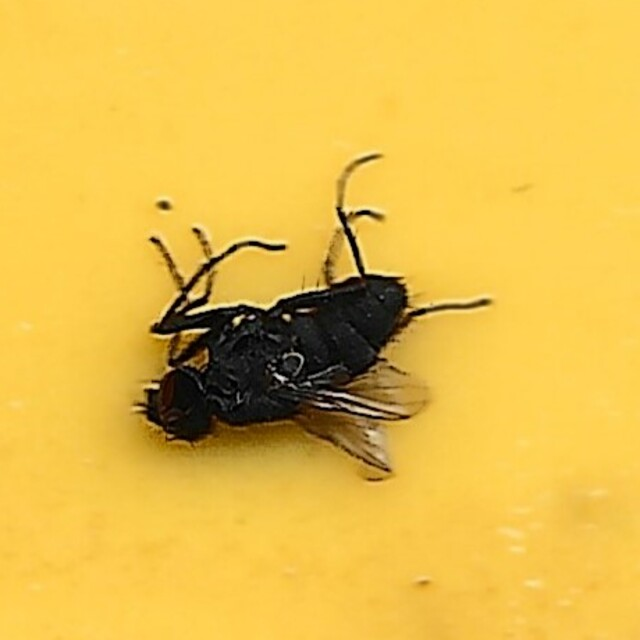Brachycera: (139, 148, 501, 492)
